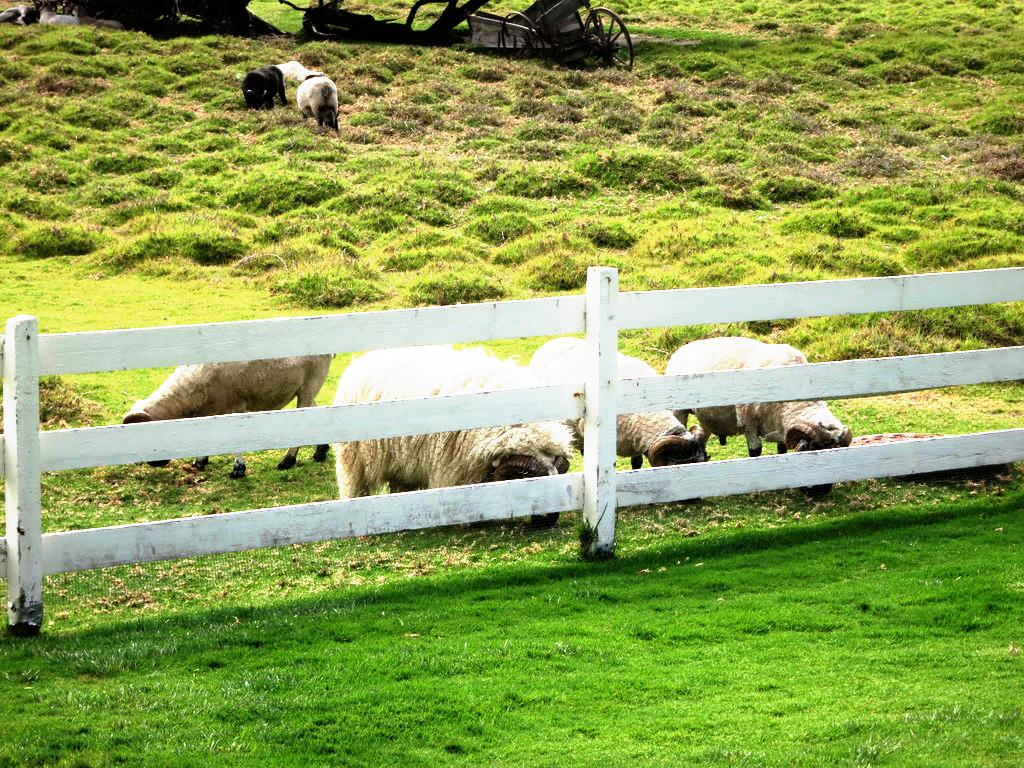Sheep: (330, 342, 578, 528), (660, 338, 856, 488), (532, 340, 704, 496), (121, 358, 333, 475), (297, 78, 335, 132)
